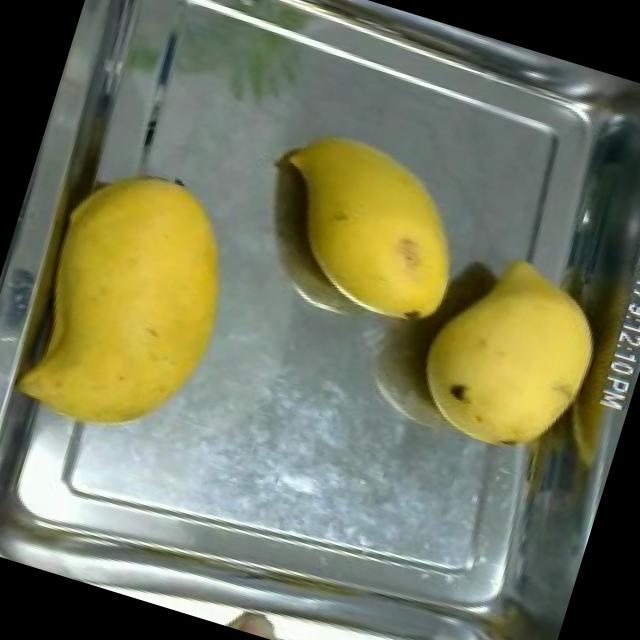fruit: (0, 136, 270, 471), (393, 228, 623, 482), (247, 109, 493, 344)
